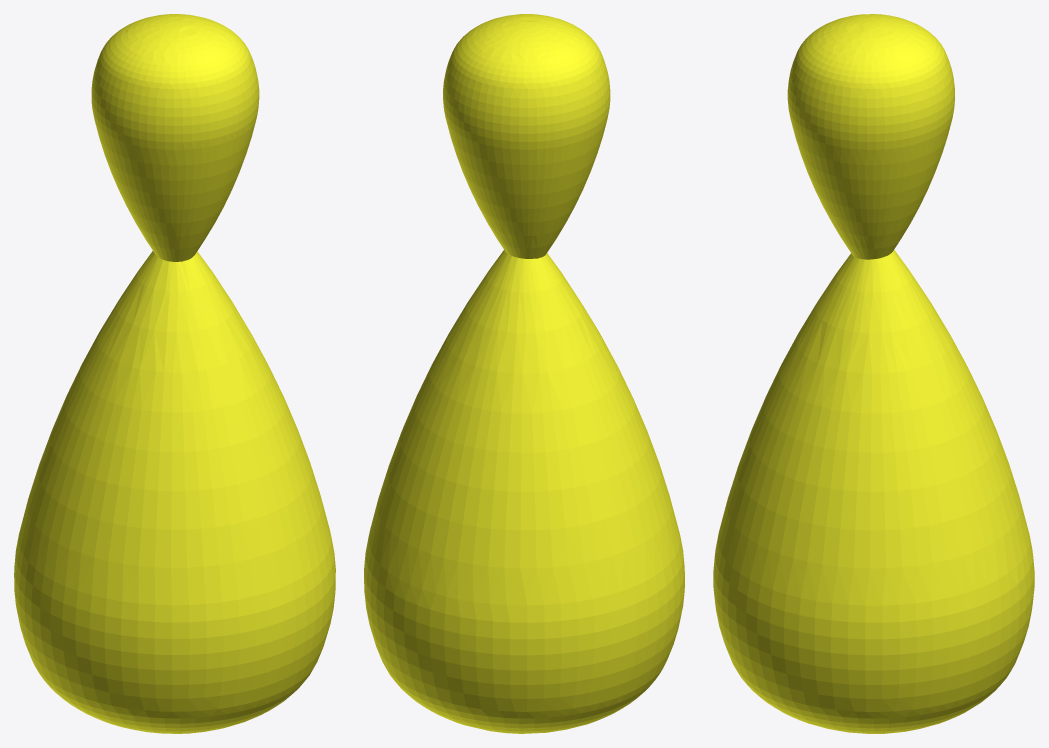
File: 5Orbital_h.glb
3 views of the same model, side by side, from view 1: azimuth 30°, elevation 25°; view 2: azimuth 150°, elevation 25°; view 3: azimuth 270°, elevation 25° (orthographic).
Visible parts, largest first — view 1: root; view 2: root; view 3: root.
Part boxes in pixels (box(x1,y1,x2,y2)): root: box(14, 14, 335, 733); root: box(364, 14, 684, 733); root: box(713, 14, 1034, 733).
Size of the model in its own units: 0.0299 by 0.0707 by 0.03.
